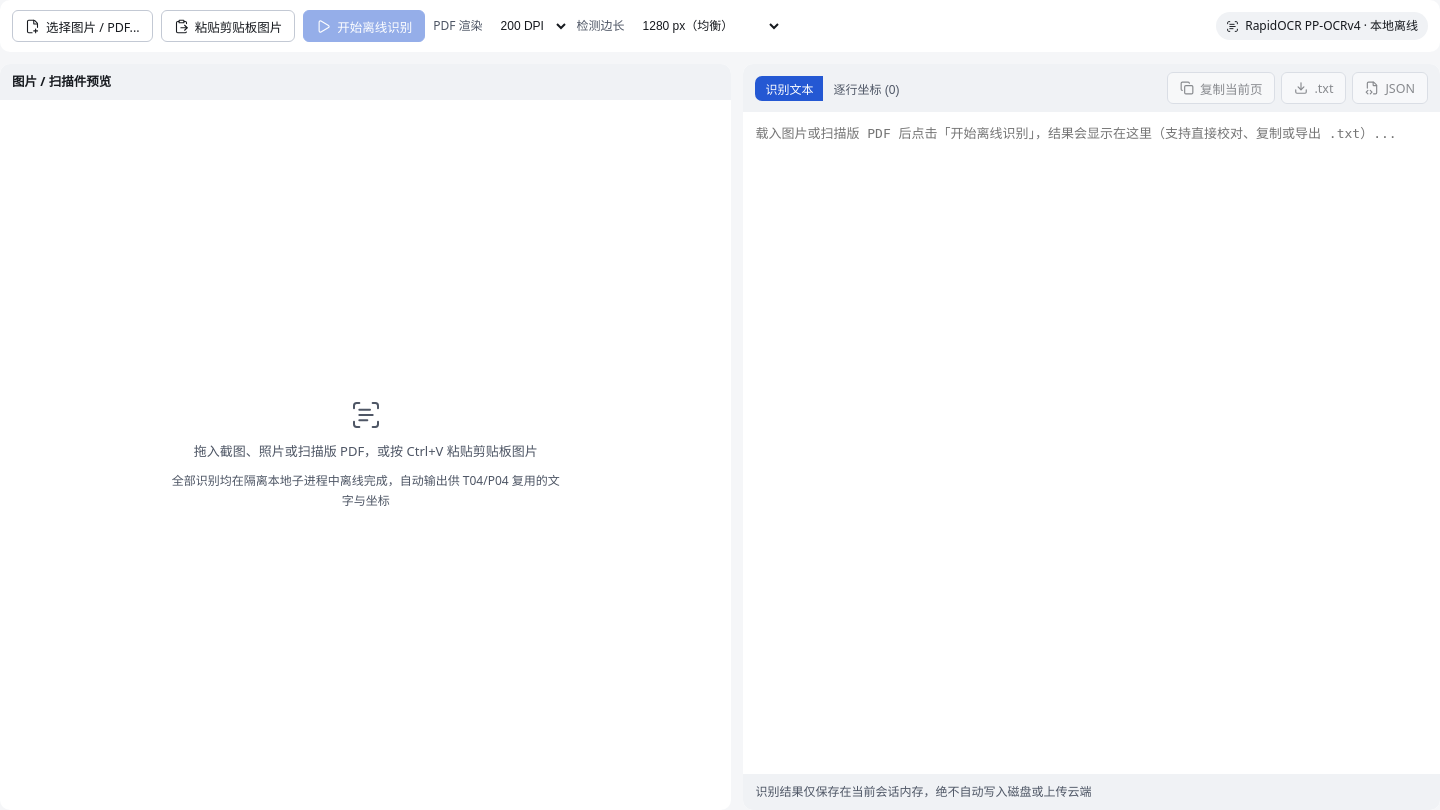
Scenario: ExtractTextWorkspace (T03) › pastes clipboard image, runs offline OCR, displays text + boxes, and copies text
Expected: the text "RapidOCR PP-OCRv4 · 本地离线" is shown, x1=1245 y1=16 x2=1418 y2=36
Click the button "粘贴剪贴板图片".
click(228, 26)  # box x1=161 y1=10 x2=295 y2=42
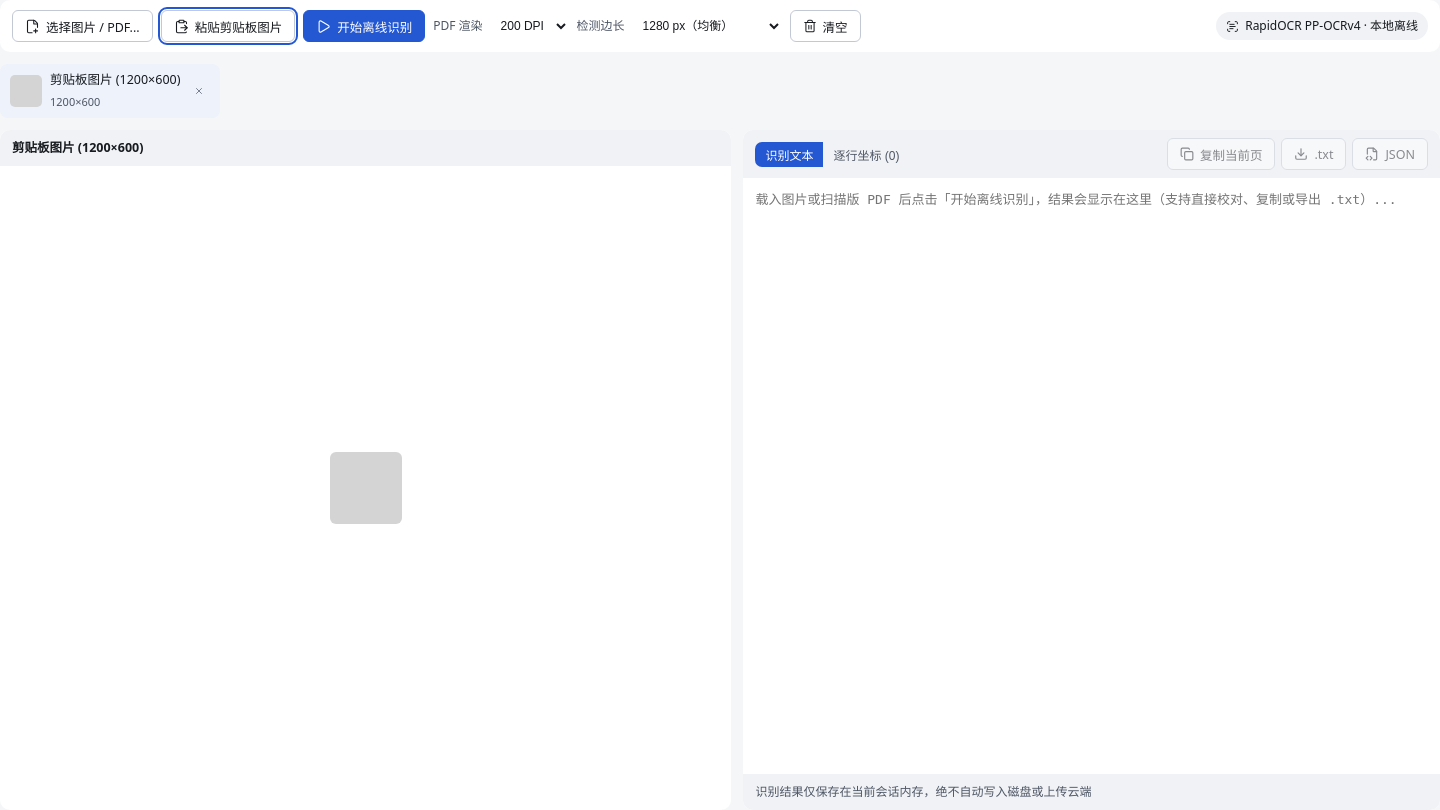
Click the button "开始离线识别".
click(364, 26)  # box x1=303 y1=10 x2=425 y2=42
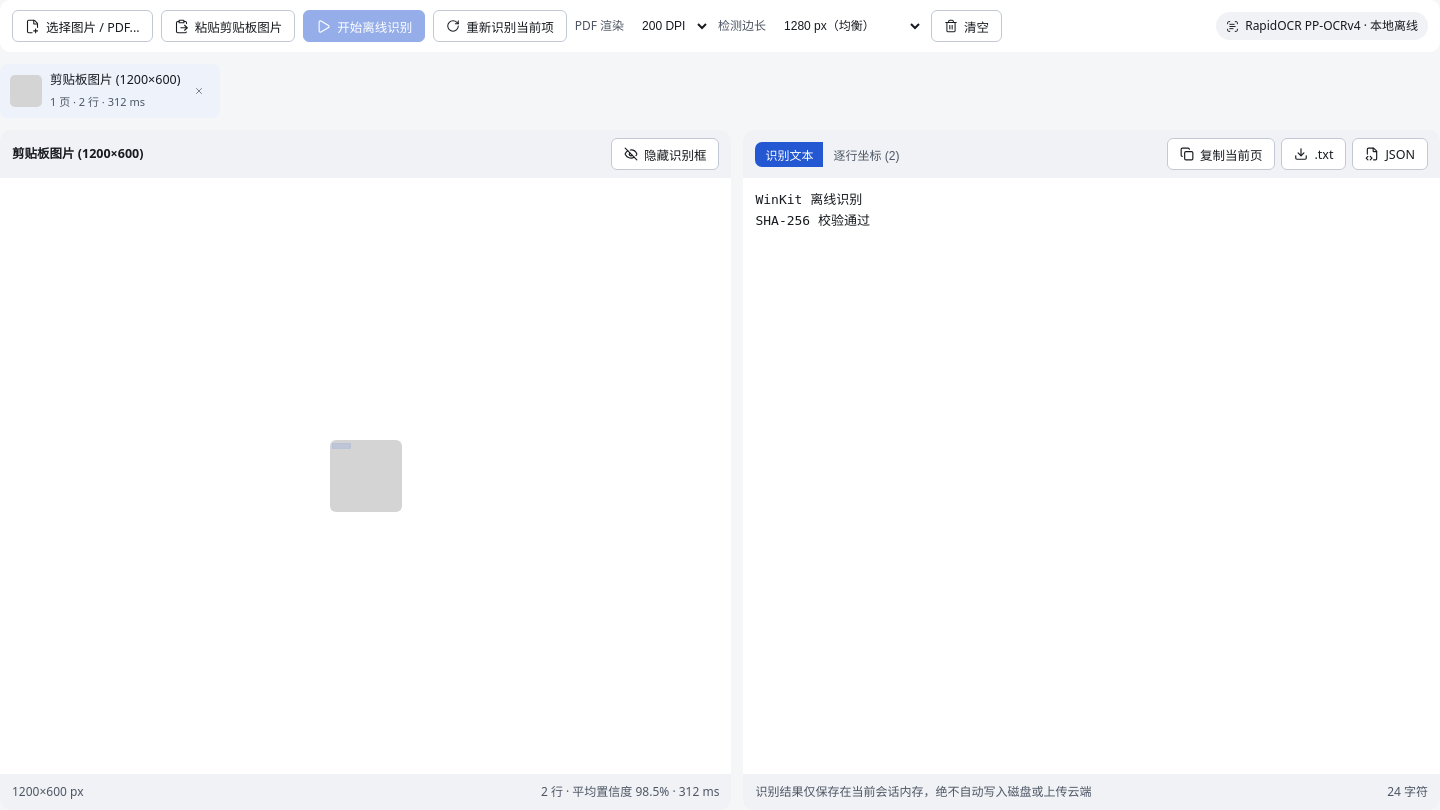
Click the button "复制当前页".
click(1221, 154)  # box x1=1167 y1=138 x2=1275 y2=170
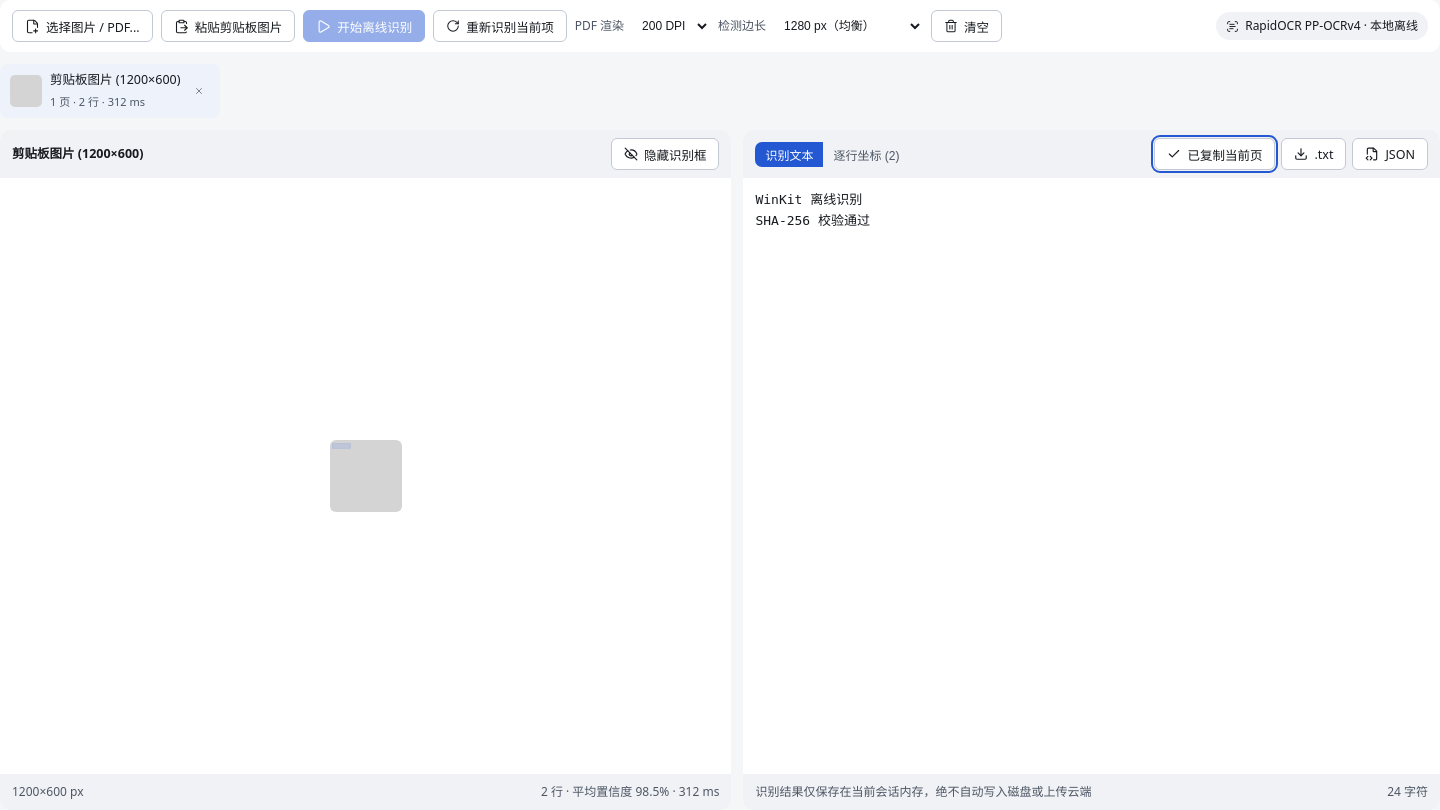
Click the tab "逐行坐标 (2)".
click(866, 154)  # box x1=823 y1=142 x2=909 y2=166
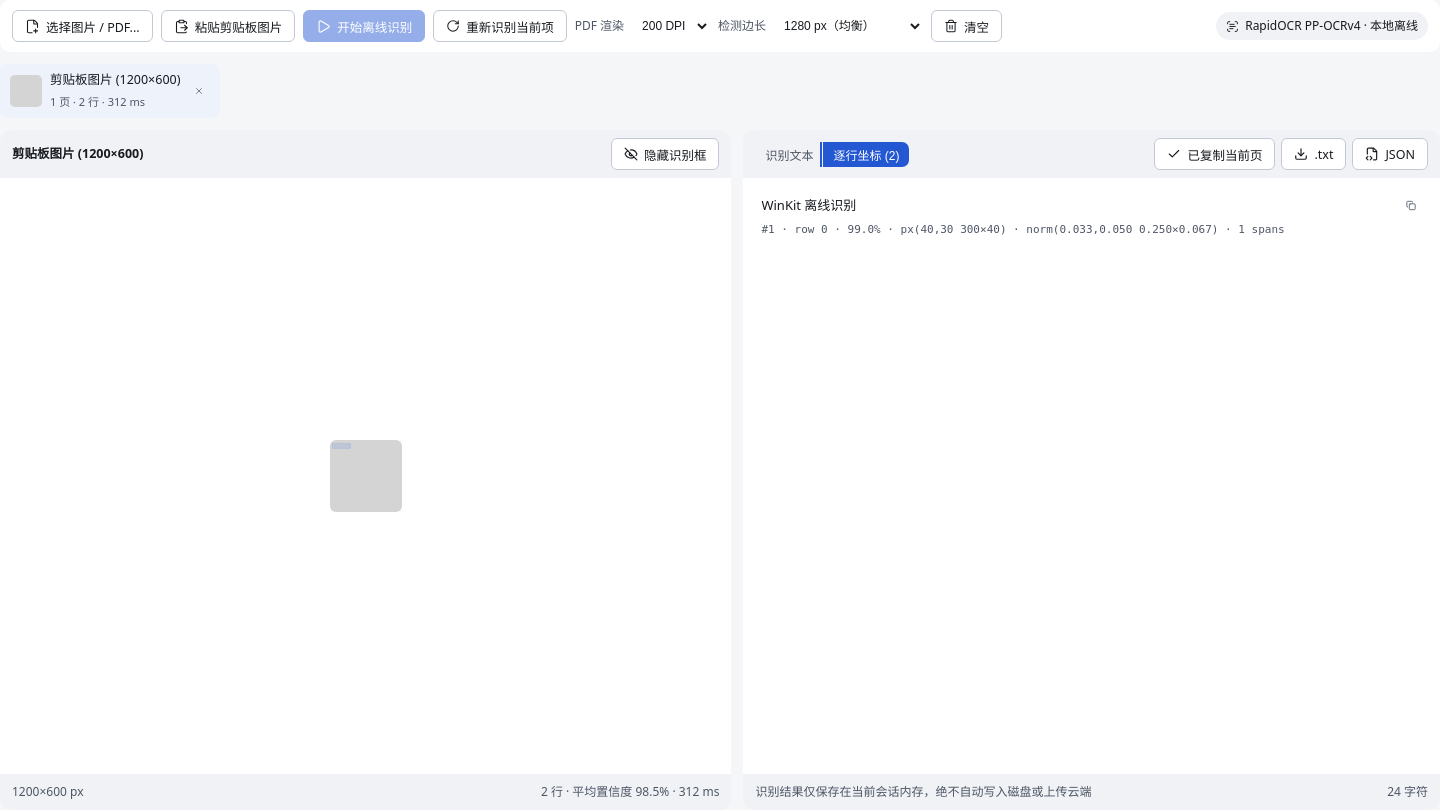
Result: the text "px(40,30 300×40)" is shown at x1=761 y1=223 x2=1285 y2=236
